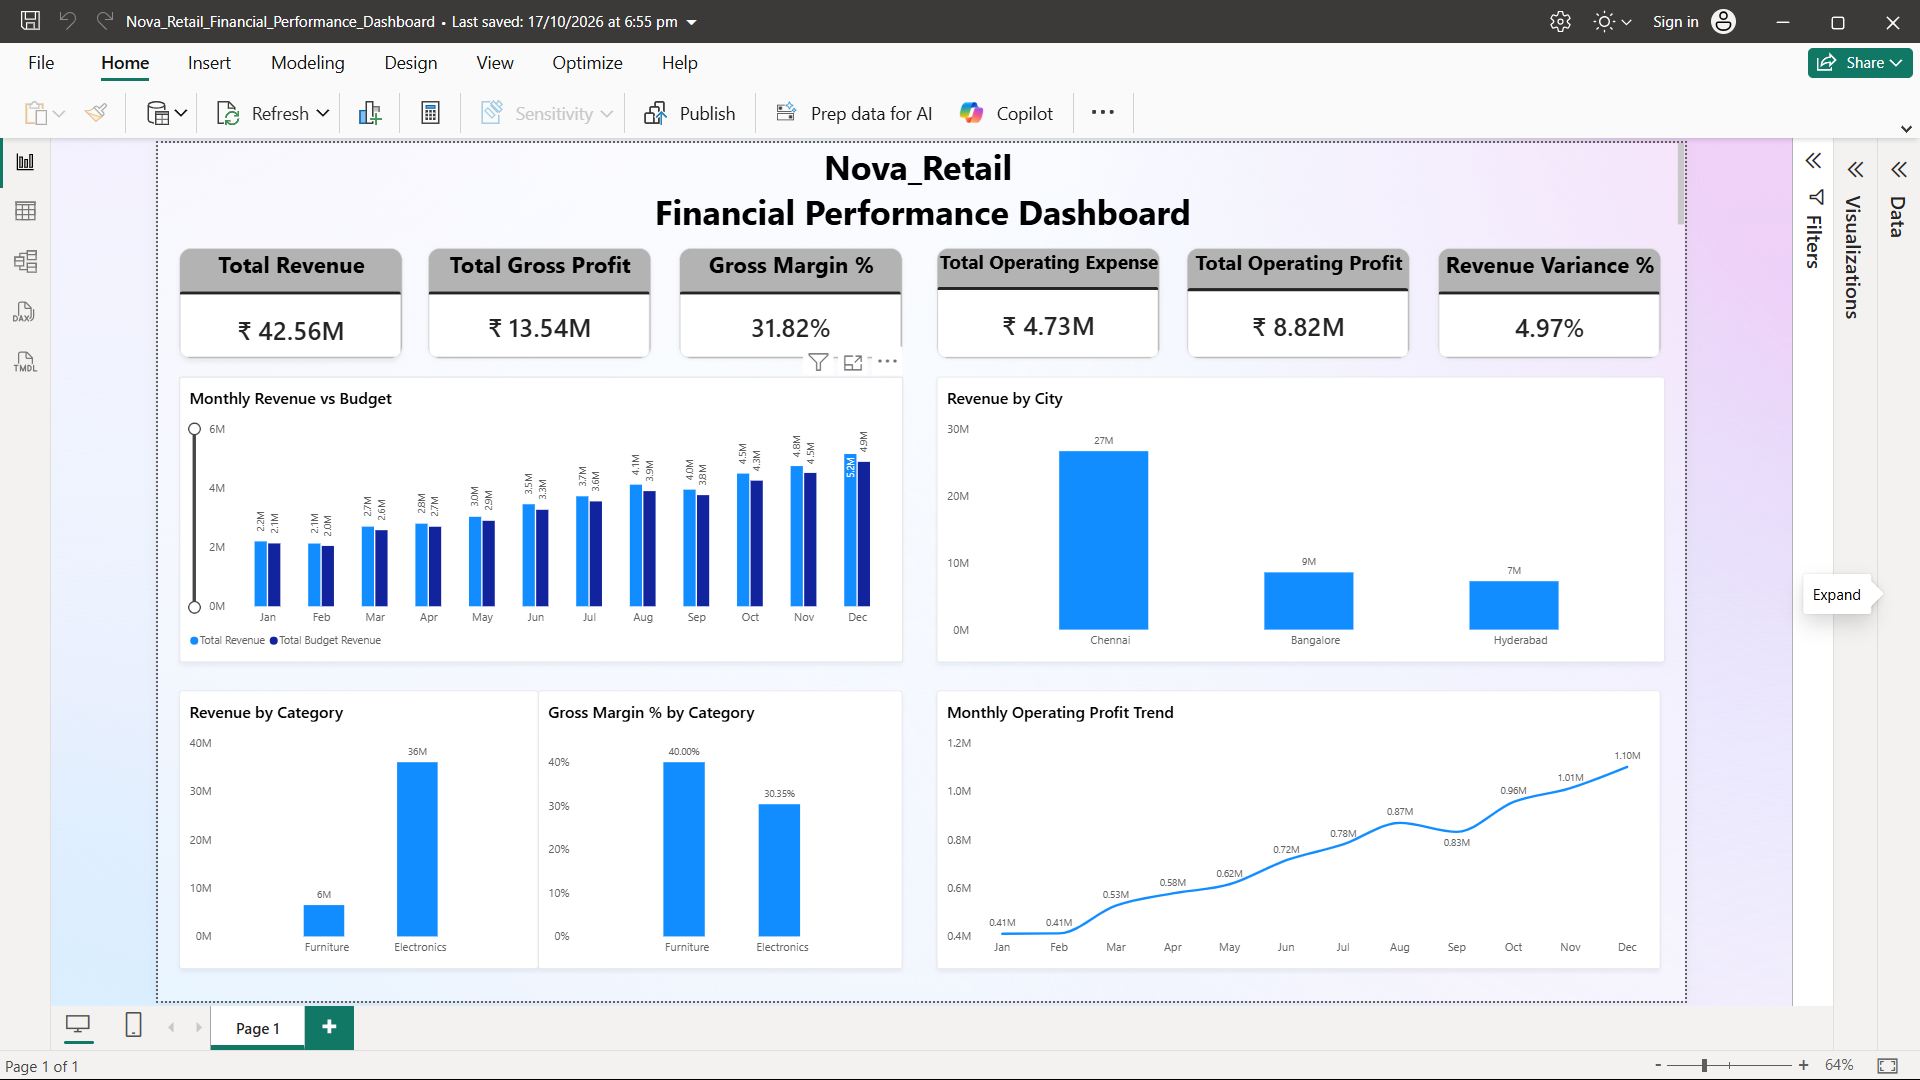

The dashboard page shown, as its layout file describes it:
{"tool":"powerbi","page":{"name":"Page 1","canvas":[1920,1080],"ordinal":0},"visuals":[{"type":"cardVisual","title":"Total Revenue","fields":{"Data":["tbl_FinancialData.Total Revenue"]},"box":[26.2,132.6,280.8,139.5],"z":0},{"type":"cardVisual","title":"Gross Margin %","fields":{"Data":["tbl_FinancialData.Overall Gross Margin %"]},"box":[655.8,132.6,280.8,139.5],"z":1000},{"type":"cardVisual","title":"Revenue Variance %","fields":{"Data":["tbl_FinancialData.Overall Revenue Variance %"]},"box":[1609.9,132.6,280.8,139.5],"z":2000},{"type":"cardVisual","title":"Total Operating Expense","fields":{"Data":["tbl_FinancialData.Total Operating Expense"]},"box":[980.2,132.6,280.8,139.5],"z":3000},{"type":"cardVisual","title":"Total Gross Profit","fields":{"Data":["tbl_FinancialData.Total Gross Profit"]},"box":[340.1,132.6,280.8,139.5],"z":4000},{"type":"cardVisual","title":"Total Operating Profit","fields":{"Data":["tbl_FinancialData.Total Operating Profit"]},"box":[1294.2,132.6,280.8,139.5],"z":5000},{"type":"clusteredColumnChart","title":" Monthly Revenue vs Budget","fields":{"Category":["tbl_FinancialData.Month"],"Y":["tbl_FinancialData.Total Revenue","tbl_FinancialData.Total Budget Revenue"]},"box":[26.2,294.8,910.5,359.3],"z":6000},{"type":"clusteredColumnChart","title":"Revenue by City","fields":{"Category":["tbl_FinancialData.City"],"Y":["tbl_FinancialData.Total Revenue"]},"box":[980.2,294.8,915.7,359.3],"z":7000},{"type":"lineChart","title":"Monthly Operating Profit Trend","fields":{"Category":["tbl_FinancialData.Month"],"Y":["tbl_FinancialData.Total Operating Profit"]},"box":[980.2,689,910.5,350.6],"z":8000},{"type":"clusteredColumnChart","title":"Revenue by Category","fields":{"Category":["tbl_FinancialData.Category"],"Y":["tbl_FinancialData.Total Revenue"]},"box":[26.2,689,451.7,350.6],"z":9000},{"type":"clusteredColumnChart","title":"Gross Margin % by Category","fields":{"Category":["tbl_FinancialData.Category"],"Y":["tbl_FinancialData.Overall Gross Margin %"]},"box":[477.9,689,458.7,350.6],"z":10000},{"type":"textbox","box":[0,0,1920.4,108.1],"z":11000}]}

Visuals, with their boxes on the page's 1920x1080 design canvas (x1, y1, x2, y2). These are canvas units, not pixel positions in the 1920x1080 screenshot, which may show the page scaled, cropped or inside an application window:
"Total Revenue" cardVisual: 26:133:307:272
"Gross Margin %" cardVisual: 656:133:937:272
"Revenue Variance %" cardVisual: 1610:133:1891:272
"Total Operating Expense" cardVisual: 980:133:1261:272
"Total Gross Profit" cardVisual: 340:133:621:272
"Total Operating Profit" cardVisual: 1294:133:1575:272
" Monthly Revenue vs Budget" clusteredColumnChart: 26:295:937:654
"Revenue by City" clusteredColumnChart: 980:295:1896:654
"Monthly Operating Profit Trend" lineChart: 980:689:1891:1040
"Revenue by Category" clusteredColumnChart: 26:689:478:1040
"Gross Margin % by Category" clusteredColumnChart: 478:689:937:1040
textbox: 0:0:1920:108
